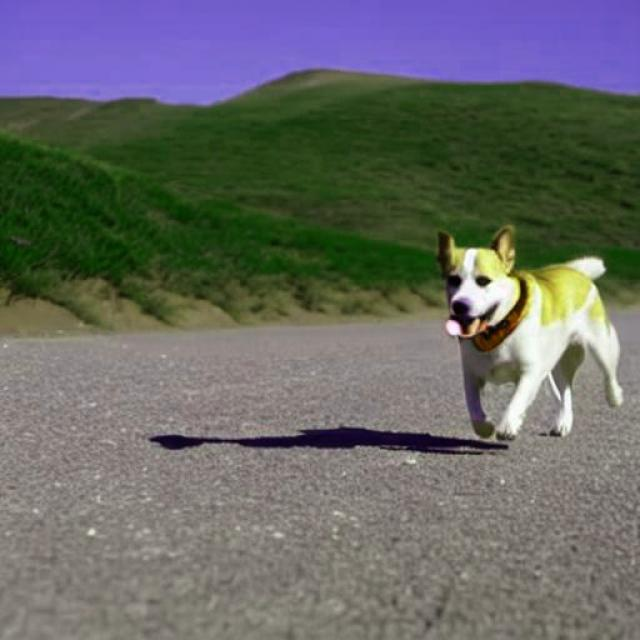Dog: (435, 225, 625, 443)
